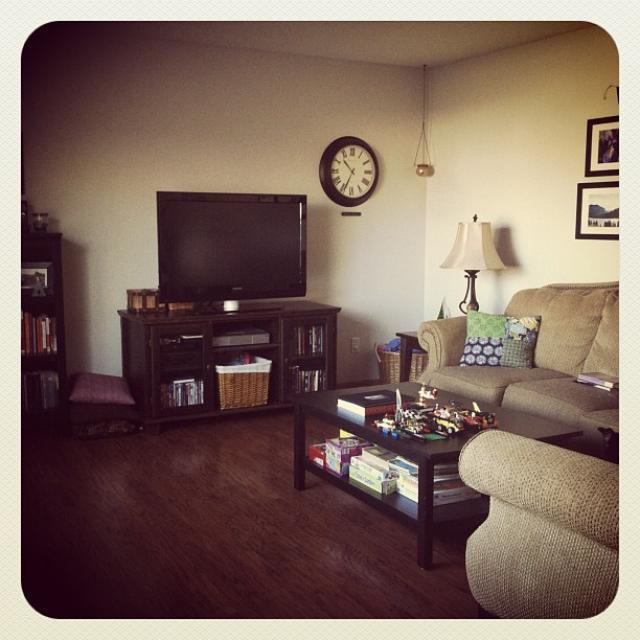Flat-Panel-TV: (158, 185, 307, 307)
